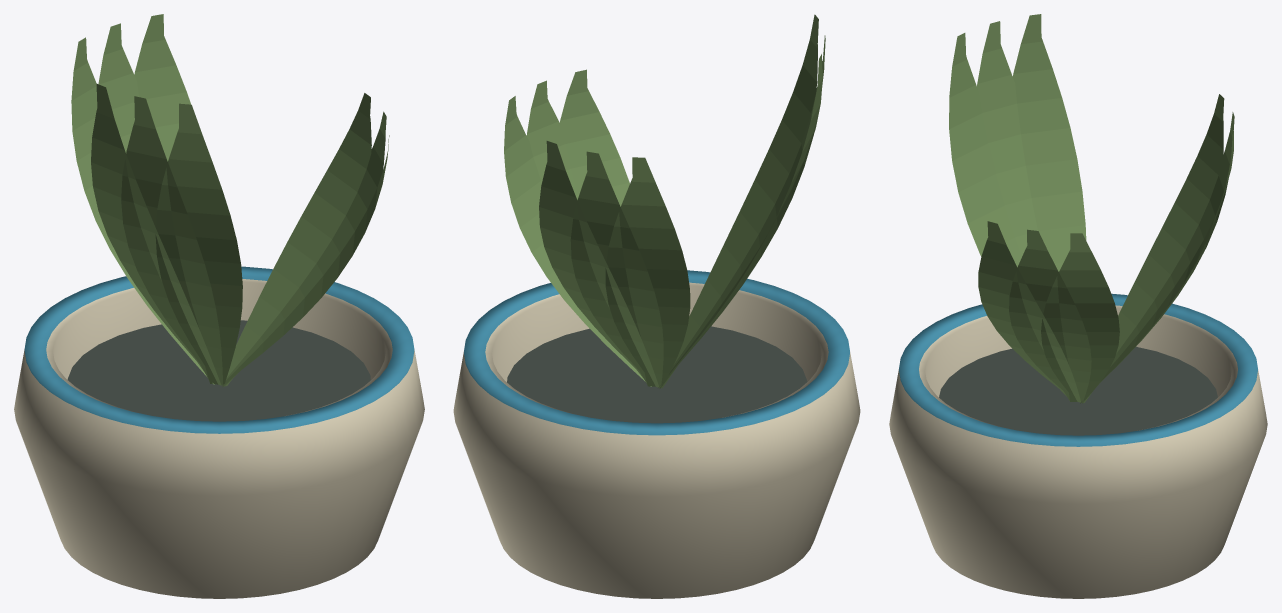
Rendered from fantasy-bathhouse-and-thermal-sanctuary-fantasy-bathho-593e8ab9__29477.glb.
The picture shows the model from 3 angles, left to right: view 1: azimuth 30°, elevation 25°; view 2: azimuth 150°, elevation 25°; view 3: azimuth 270°, elevation 25°; orthographic projection. The views are drawn at different scales.
Parts seen in each view (by area): view 1: fantasy-bathhouse-and-thermal-sanctuary-garden-planter; view 2: fantasy-bathhouse-and-thermal-sanctuary-garden-planter; view 3: fantasy-bathhouse-and-thermal-sanctuary-garden-planter.
Part boxes in pixels (x1,y1,x2,y2): fantasy-bathhouse-and-thermal-sanctuary-garden-planter: (14, 14, 424, 598); fantasy-bathhouse-and-thermal-sanctuary-garden-planter: (453, 14, 860, 598); fantasy-bathhouse-and-thermal-sanctuary-garden-planter: (889, 14, 1267, 598).
Bounding box in the file's own units: 1.16 × 1.59 × 1.16.
